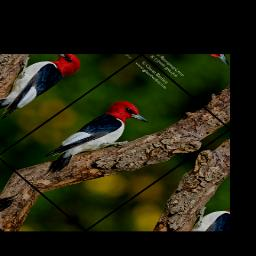Woodpecker: (25, 95, 157, 193)
